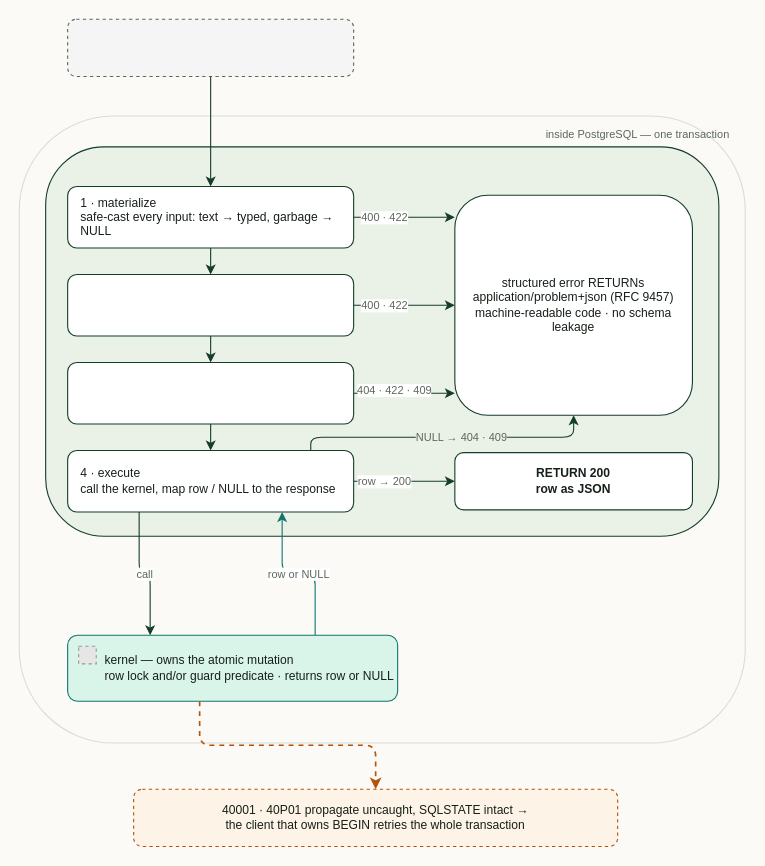
This 765x866 diagram has some shape labels left out. Grey dashed boxes stand in for pictures. The shapes that lost their labels are listed below. From the top down, each one's box as (x1, y1, x2, y2) in pixels, then its label:
(67, 18, 354, 76): HTTP request path params · query · body — all raw text
(67, 273, 354, 336): 2 · validate required fields present, optional well-formed
(45, 146, 719, 536): handler — one function, every exit is a RETURN
(67, 361, 354, 424): 3 · probe target exists · reference exists · no conflict
